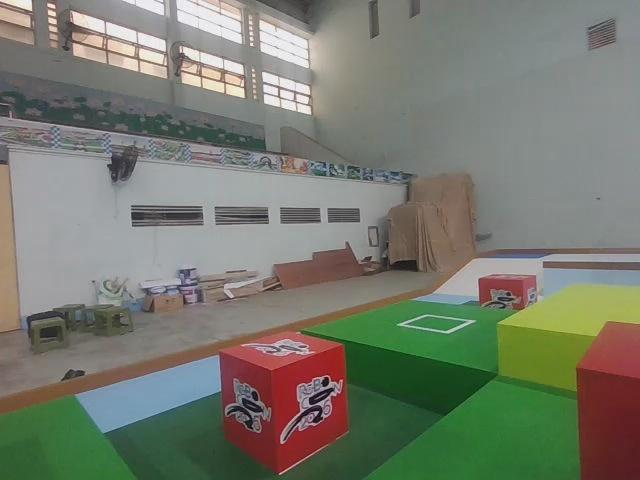R1: (221, 331, 353, 472), (478, 271, 539, 316)
